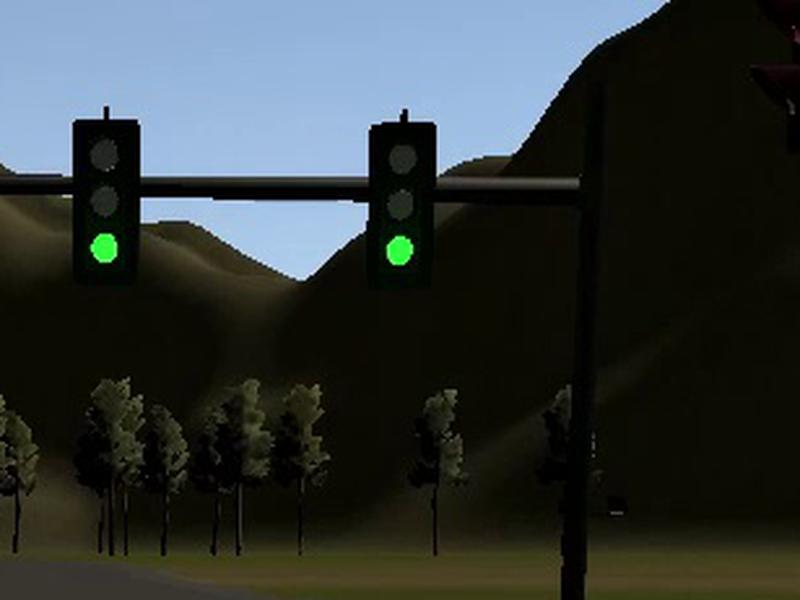Green: (72, 120, 141, 281), (369, 122, 436, 285)
